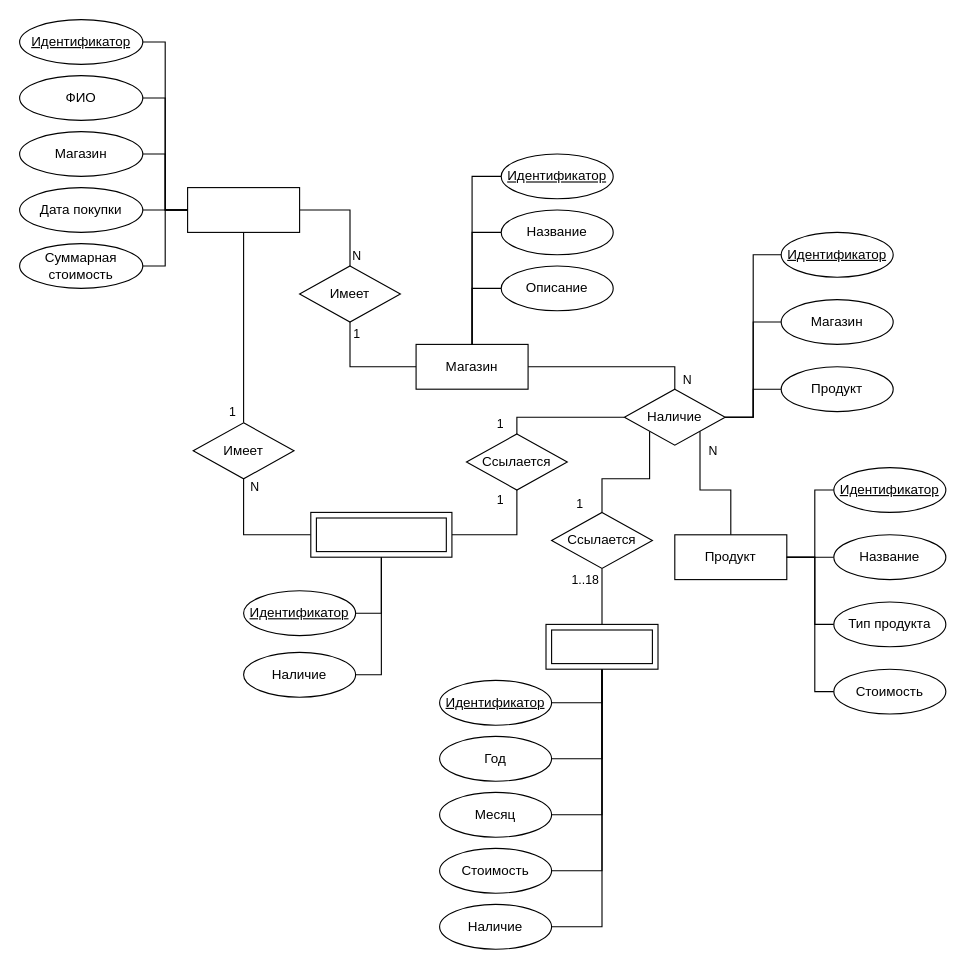
Some shapes in this 965 by 969 pixel diagram are drawn without their labels. The shapes that lost their labels are listed below. From the top down, each one's centre as x and y in pixels, then its label:
(x=243, y=209): Товарный чек
(x=381, y=534): Позиция товарного чека
(x=601, y=646): История цены
